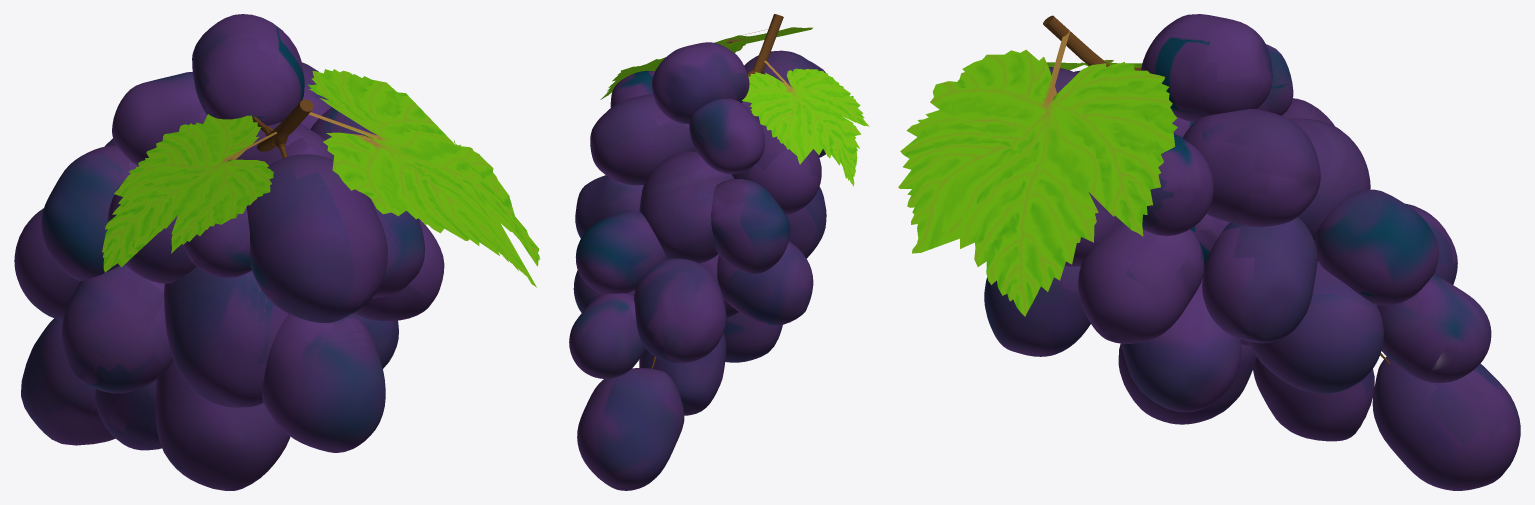
Rendered from Grapes.fbx.
3 views of the same model, side by side, from view 1: azimuth 30°, elevation 25°; view 2: azimuth 150°, elevation 25°; view 3: azimuth 270°, elevation 25° (orthographic). The views are drawn at different scales.
Parts seen in each view (by area): view 1: Berrys, Leaf2, Leaf, Branch; view 2: Berrys, Leaf, Leaf2, Branch; view 3: Berrys, Leaf2, Branch.
Boxes of the visible parts, bbox=[...] form: Berrys: bbox=[14, 14, 444, 490]; Leaf2: bbox=[308, 69, 540, 287]; Leaf: bbox=[102, 114, 277, 272]; Branch: bbox=[252, 99, 313, 158]; Berrys: bbox=[569, 42, 826, 490]; Leaf: bbox=[742, 60, 869, 186]; Leaf2: bbox=[600, 27, 812, 99]; Branch: bbox=[651, 14, 783, 368]; Berrys: bbox=[984, 14, 1520, 490]; Leaf2: bbox=[898, 31, 1177, 316]; Branch: bbox=[1043, 15, 1390, 364].
Bounding box in the file's own units: 321 × 416 × 490.
